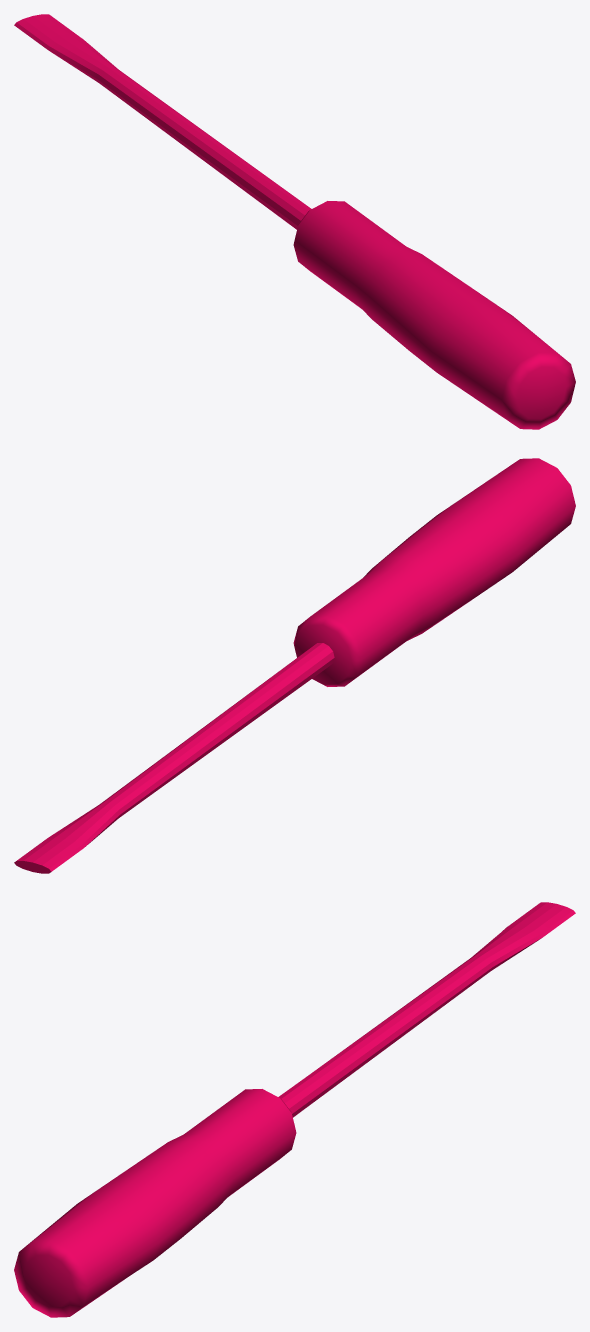
File: Screwdriver_02_Lod0.fbx
The picture shows the model from 3 angles, top to bottom: view 1: azimuth 30°, elevation 25°; view 2: azimuth 150°, elevation 25°; view 3: azimuth 330°, elevation 25°; orthographic projection.
Parts seen in each view (by area): view 1: Screwdriver_02_Lod0; view 2: Screwdriver_02_Lod0; view 3: Screwdriver_02_Lod0.
Boxes of the visible parts, x1,y1,x2,y2 form: Screwdriver_02_Lod0: (14,14,575,429); Screwdriver_02_Lod0: (14,458,575,873); Screwdriver_02_Lod0: (14,902,575,1317).
Bounding box in the file's own units: 4.5 × 3.8 × 45.62.
